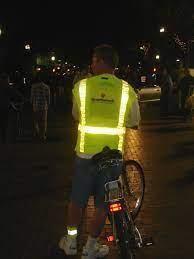Vest: (71, 73, 128, 151)
